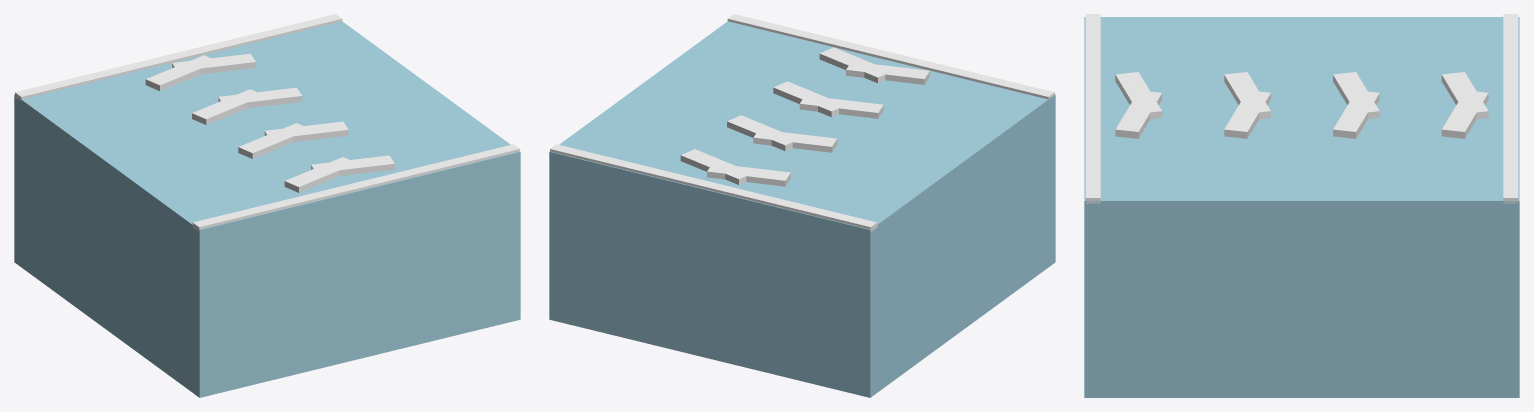
File: ThinConveyor_TopHalf.glb
3 renders of one model, left to right at view 1: azimuth 30°, elevation 25°; view 2: azimuth 150°, elevation 25°; view 3: azimuth 270°, elevation 25°, orthographic. The views are drawn at different scales.
Visible parts, largest first — view 1: ThinConveyor_TopHalf_body, rail_-0.007, rail_0.007, chev_1_-1.007, chev_2_-1.007, chev_3_1.007, chev_0_-1.007, chev_0_1.007, chev_2_1.007, chev_1_1.007, chev_3_-1.007; view 2: ThinConveyor_TopHalf_body, rail_0.007, rail_-0.007, chev_2_1.007, chev_3_1.007, chev_1_1.007, chev_0_1.007, chev_0_-1.007, chev_1_-1.007, chev_3_-1.007, chev_2_-1.007; view 3: ThinConveyor_TopHalf_body, rail_0.007, rail_-0.007, chev_0_1.007, chev_3_1.007, chev_1_1.007, chev_2_1.007, chev_3_-1.007, chev_0_-1.007, chev_1_-1.007, chev_2_-1.007.
Boxes of the visible parts, <box> form: ThinConveyor_TopHalf_body: <box>14,21,520,397</box>; rail_-0.007: <box>192,144,519,231</box>; rail_0.007: <box>15,14,342,101</box>; chev_1_-1.007: <box>264,121,348,141</box>; chev_2_-1.007: <box>218,87,302,108</box>; chev_3_1.007: <box>145,55,217,90</box>; chev_0_-1.007: <box>311,155,394,175</box>; chev_0_1.007: <box>284,157,356,192</box>; chev_2_1.007: <box>192,89,256,124</box>; chev_1_1.007: <box>238,123,303,158</box>; chev_3_-1.007: <box>172,53,255,74</box>; ThinConveyor_TopHalf_body: <box>549,21,1055,397</box>; rail_0.007: <box>550,144,877,231</box>; rail_-0.007: <box>727,14,1054,99</box>; chev_2_1.007: <box>753,129,837,152</box>; chev_3_1.007: <box>707,163,790,186</box>; chev_1_1.007: <box>799,95,883,118</box>; chev_0_1.007: <box>846,63,929,84</box>; chev_0_-1.007: <box>819,47,891,83</box>; chev_1_-1.007: <box>773,81,845,117</box>; chev_3_-1.007: <box>680,149,751,184</box>; chev_2_-1.007: <box>727,115,792,151</box>; ThinConveyor_TopHalf_body: <box>1084,17,1519,397</box>; rail_0.007: <box>1503,14,1518,203</box>; rail_-0.007: <box>1085,14,1100,203</box>; chev_0_1.007: <box>1115,72,1162,119</box>; chev_3_1.007: <box>1441,72,1488,119</box>; chev_1_1.007: <box>1224,72,1270,119</box>; chev_2_1.007: <box>1333,72,1379,119</box>; chev_3_-1.007: <box>1441,91,1488,138</box>; chev_0_-1.007: <box>1115,91,1162,138</box>; chev_1_-1.007: <box>1224,91,1270,138</box>; chev_2_-1.007: <box>1333,91,1379,138</box>.
Bounding box in the file's own units: 1 × 0.5175 × 1.
